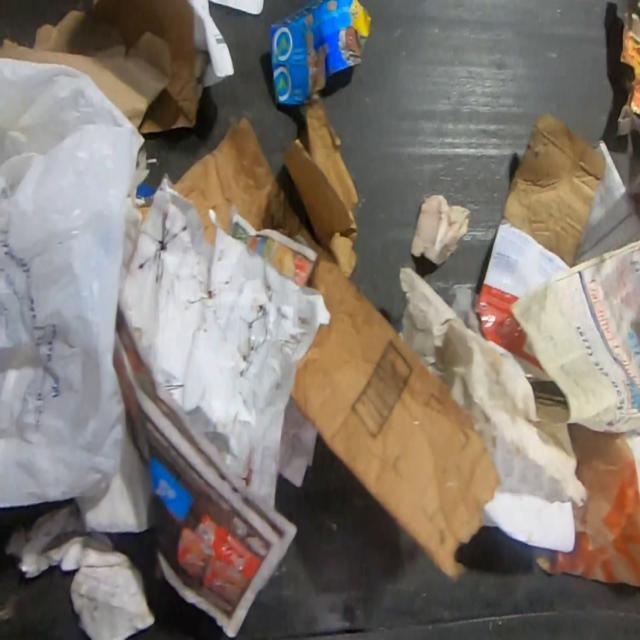cardboard: (171, 116, 500, 582), (0, 0, 210, 137), (500, 109, 601, 266), (283, 91, 360, 279), (270, 0, 376, 103)
soft_plastic: (0, 55, 146, 506)
